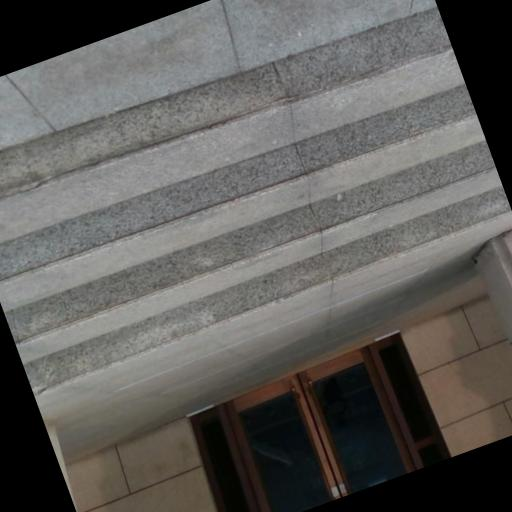stairs: (0, 7, 511, 390)
